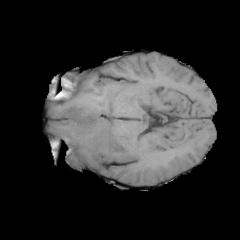glioma: (49, 102, 129, 164)
